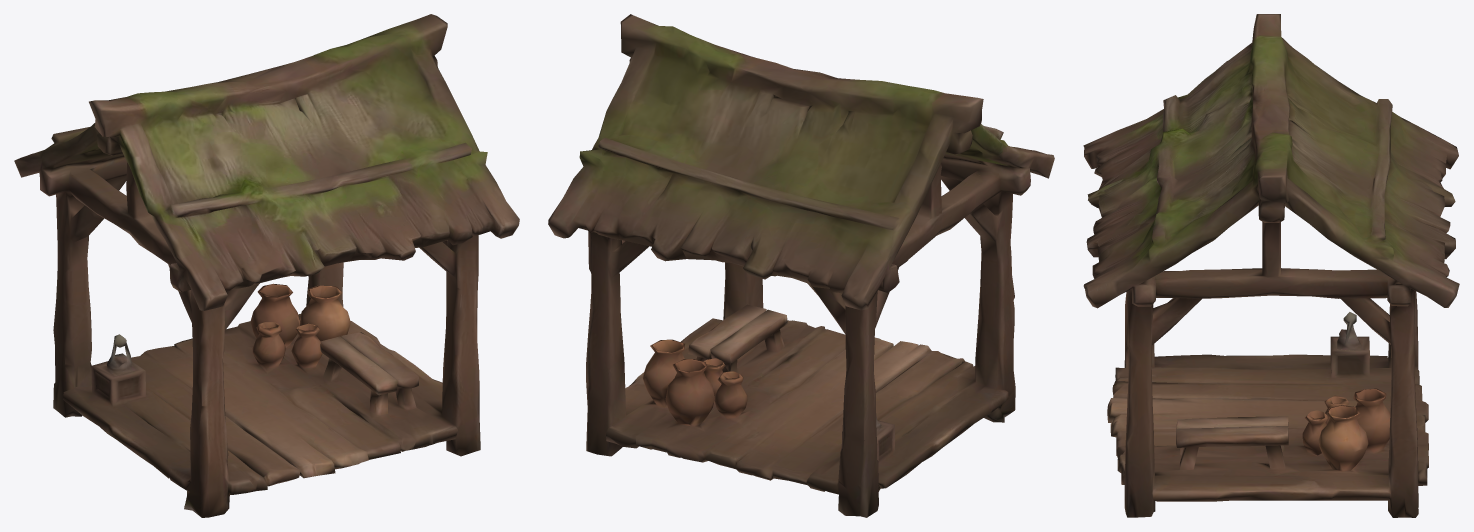
File: sacred_grove_shelter.glb
3 views of the same model, side by side, from view 1: azimuth 30°, elevation 25°; view 2: azimuth 150°, elevation 25°; view 3: azimuth 270°, elevation 25° (orthographic). The views are drawn at different scales.
Parts seen in each view (by area): view 1: tripo_node_ba51216c-a1c6-4872-9b30-ffe839b1b7bf; view 2: tripo_node_ba51216c-a1c6-4872-9b30-ffe839b1b7bf; view 3: tripo_node_ba51216c-a1c6-4872-9b30-ffe839b1b7bf.
Part boxes in pixels (<box>): tripo_node_ba51216c-a1c6-4872-9b30-ffe839b1b7bf: <box>14,14,519,517</box>; tripo_node_ba51216c-a1c6-4872-9b30-ffe839b1b7bf: <box>548,14,1054,517</box>; tripo_node_ba51216c-a1c6-4872-9b30-ffe839b1b7bf: <box>1083,14,1459,517</box>.
Size of the model in its own units: 0.9873 by 1 by 0.9513.
Materials: 1 (1 with a texture image).
